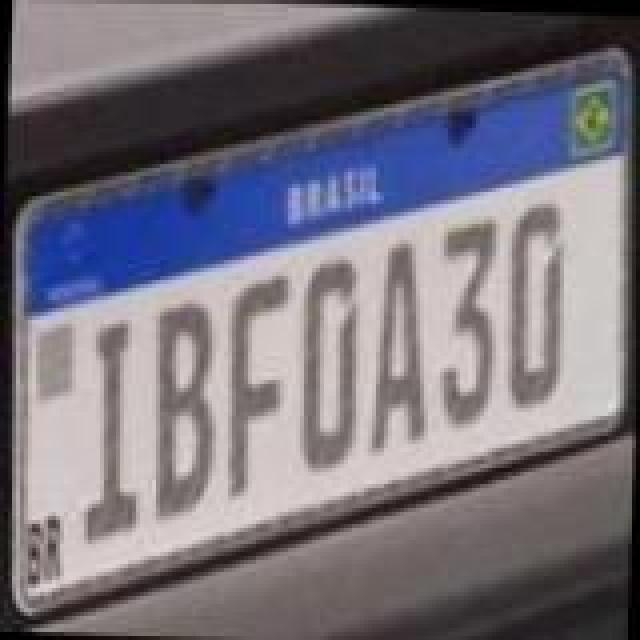3: (434, 212, 498, 428)
A: (366, 238, 430, 450)
B: (150, 296, 222, 524)
D: (298, 254, 366, 470), (502, 196, 566, 412)
F: (224, 272, 288, 496)
I: (84, 314, 144, 542)
